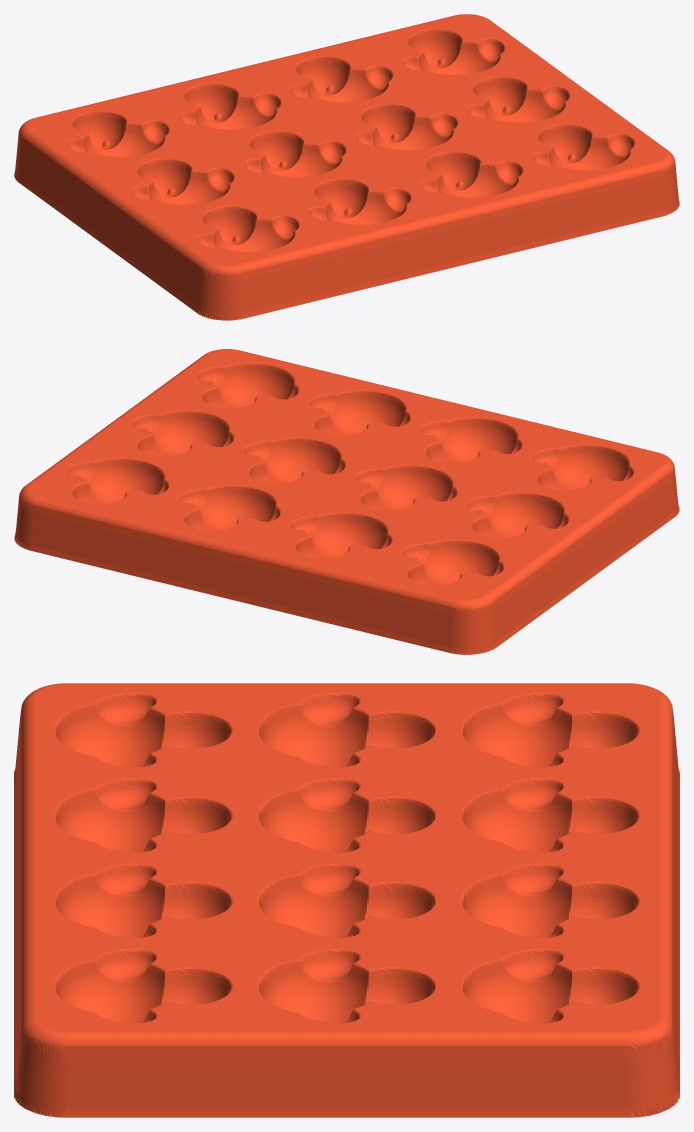
Rendered from mold.glb.
The picture shows the model from 3 angles, top to bottom: view 1: azimuth 30°, elevation 25°; view 2: azimuth 150°, elevation 25°; view 3: azimuth 270°, elevation 25°; orthographic projection. The views are drawn at different scales.
Parts seen in each view (by area): view 1: geometry_0; view 2: geometry_0; view 3: geometry_0.
Part boxes in pixels (left/top/right/bottom): geometry_0: left=14, top=14, right=679, bottom=320; geometry_0: left=14, top=349, right=679, bottom=654; geometry_0: left=14, top=683, right=679, bottom=1117.
Bounding box in the file's own units: 0.1454 × 0.0144 × 0.1122.
